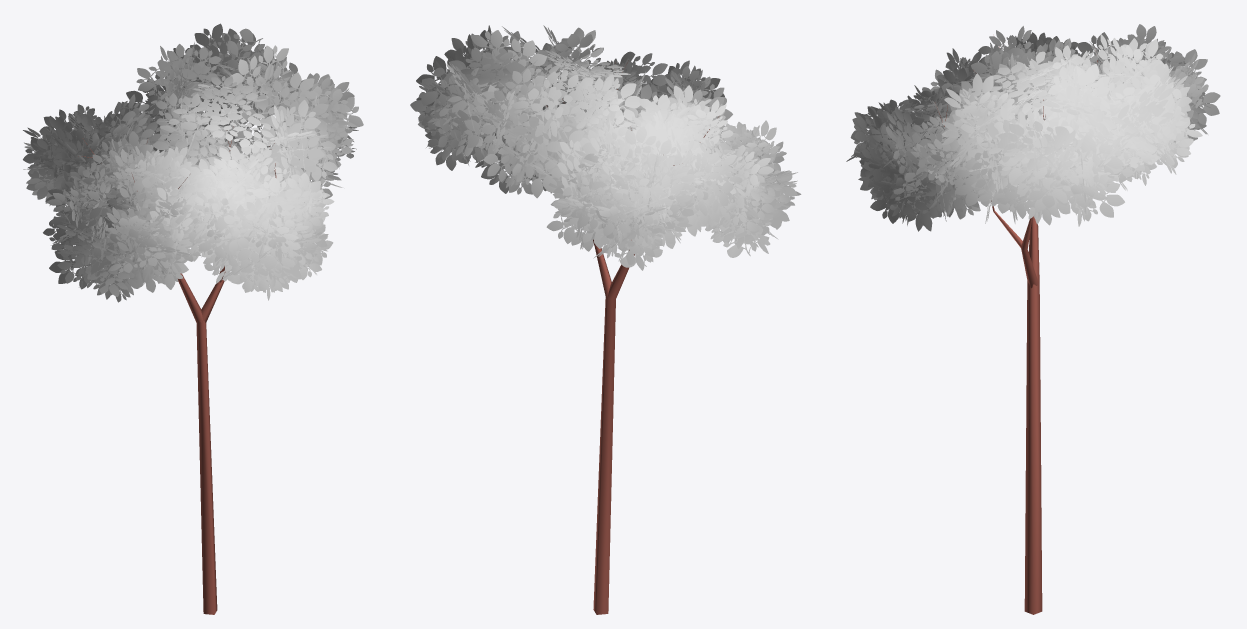
Rendered from Tree3.fbx.
3 views of the same model, side by side, from view 1: azimuth 30°, elevation 25°; view 2: azimuth 150°, elevation 25°; view 3: azimuth 270°, elevation 25° (orthographic). The views are drawn at different scales.
Parts seen in each view (by area): view 1: Leaves3.3_LOD_0, Leaves3.0_LOD_0, Leaves3.2_LOD_0, Leaves3.1_LOD_0, Trunk3_LOD_0; view 2: Leaves3.3_LOD_0, Leaves3.1_LOD_0, Leaves3.0_LOD_0, Trunk3_LOD_0, Leaves3.2_LOD_0; view 3: Leaves3.3_LOD_0, Leaves3.2_LOD_0, Trunk3_LOD_0, Leaves3.0_LOD_0, Leaves3.1_LOD_0.
Part boxes in pixels (x1,y1,x2,y2): Leaves3.3_LOD_0: (126, 23, 363, 212); Leaves3.0_LOD_0: (43, 131, 209, 302); Leaves3.2_LOD_0: (171, 145, 334, 300); Leaves3.1_LOD_0: (23, 94, 166, 212); Trunk3_LOD_0: (78, 126, 276, 614); Leaves3.3_LOD_0: (410, 25, 640, 198); Leaves3.1_LOD_0: (543, 126, 697, 270); Leaves3.0_LOD_0: (623, 85, 801, 257); Trunk3_LOD_0: (546, 60, 718, 614); Leaves3.2_LOD_0: (580, 51, 732, 135); Leaves3.3_LOD_0: (941, 34, 1202, 226); Leaves3.2_LOD_0: (846, 81, 1028, 231); Trunk3_LOD_0: (936, 47, 1097, 614); Leaves3.0_LOD_0: (916, 26, 1094, 119); Leaves3.1_LOD_0: (1076, 24, 1220, 142).
Size of what is drawn, in the model's own units: 1026 by 1566 by 951.
